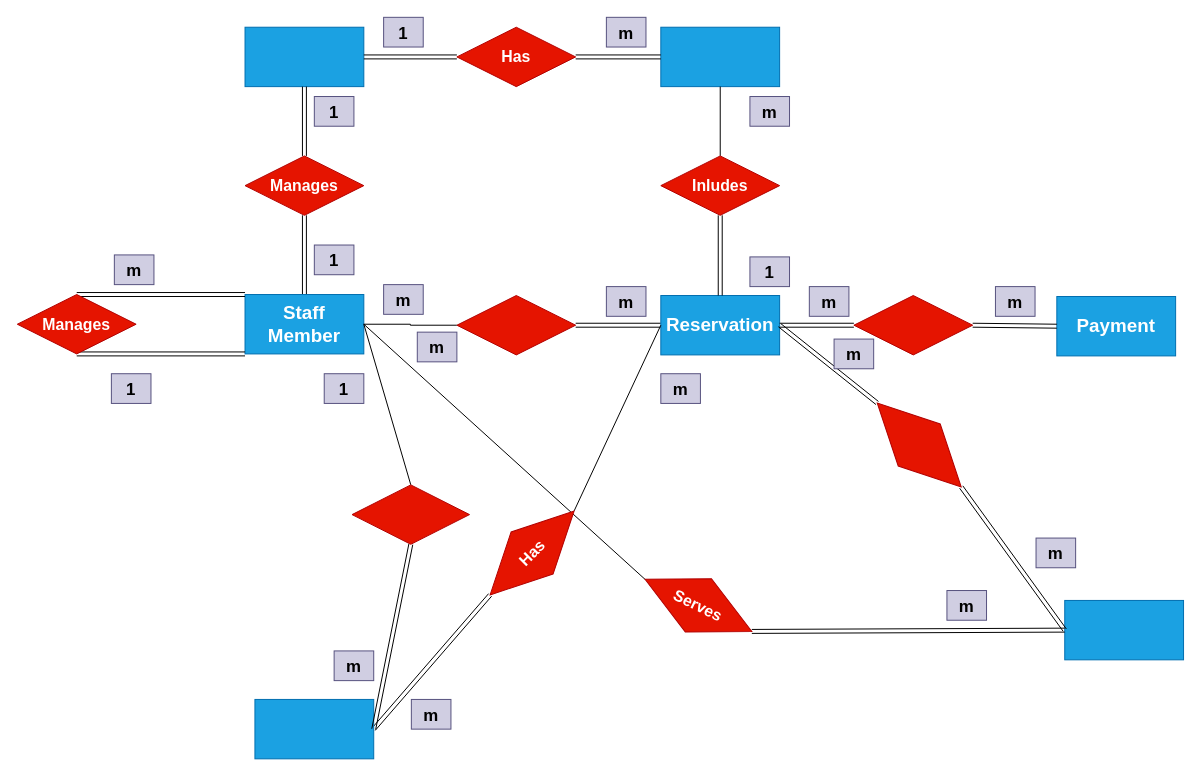
Some shapes in this 1201 by 776 pixel diagram are drawn without their labels. Here are the shapes that lost their labels. From the top down, the box of each, then its label:
(244, 26, 364, 87): Hotel
(660, 26, 780, 87): Room
(456, 295, 576, 355): Assists
(853, 295, 973, 355): covers
(855, 381, 982, 508): Makes
(351, 484, 470, 544): Fullfills
(1064, 599, 1184, 660): Guest
(254, 698, 374, 759): Service
